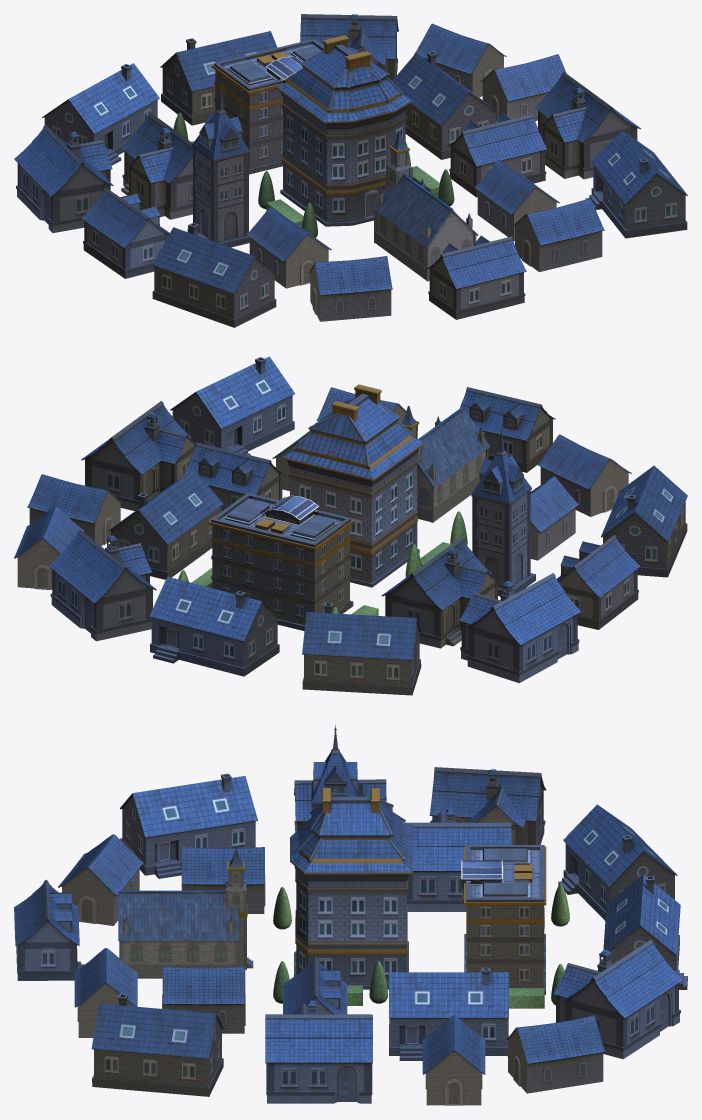
Rendered from city_european_3.glb.
3 views of the same model, one above another, from view 1: azimuth 30°, elevation 25°; view 2: azimuth 150°, elevation 25°; view 3: azimuth 270°, elevation 25° (orthographic). The views are drawn at different scales.
Parts seen in each view (by area): view 1: 0001_low.007; view 2: 0001_low.007; view 3: 0001_low.007.
Boxes of the visible parts, x1,y1,x2,y2 form: 0001_low.007: [14, 14, 687, 327]; 0001_low.007: [14, 356, 687, 695]; 0001_low.007: [14, 724, 687, 1105].
Size of the model in its own units: 19.92 by 5.75 by 20.24.
5 materials, 5 textured.
